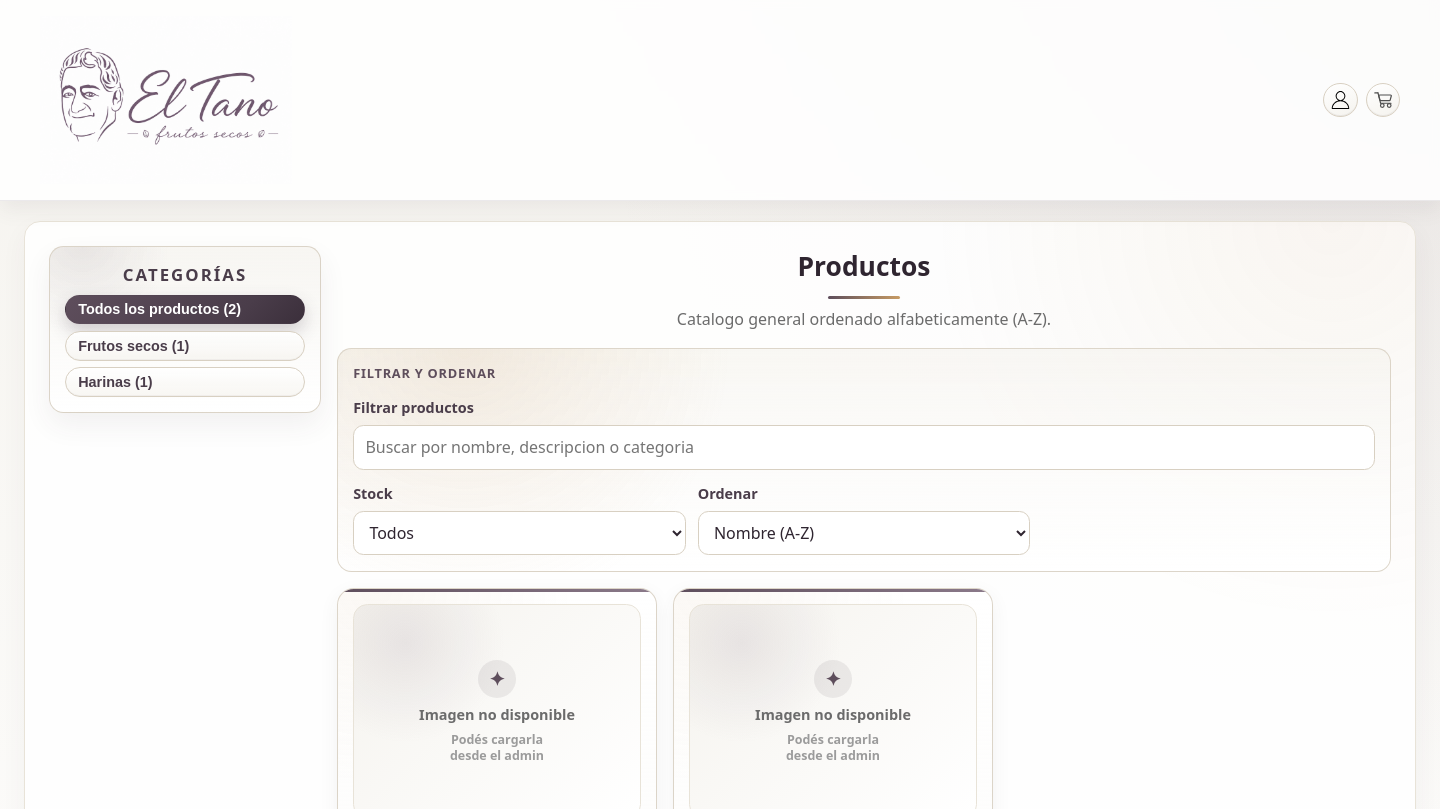
Test case: App checkout MVP flow › navigates from the header cart icon to the cart page from productos
Click the link named "Ver carrito, 0 items": (1383,100) [1366, 83, 1400, 117]
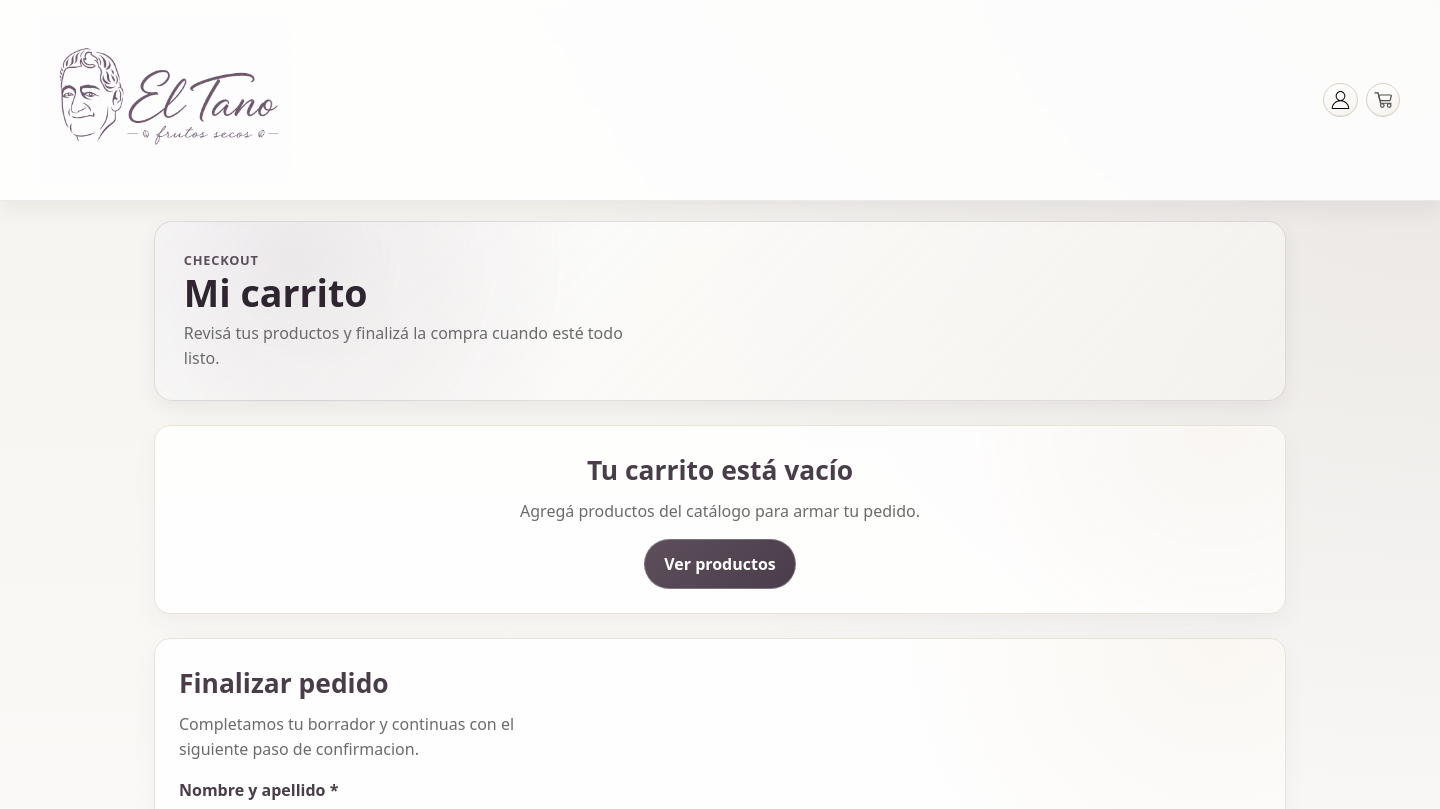
Result: the heading "Mi carrito" is shown at [184, 267, 368, 318]
Result: the heading "Tu carrito está vacío" is shown at [587, 452, 853, 488]
